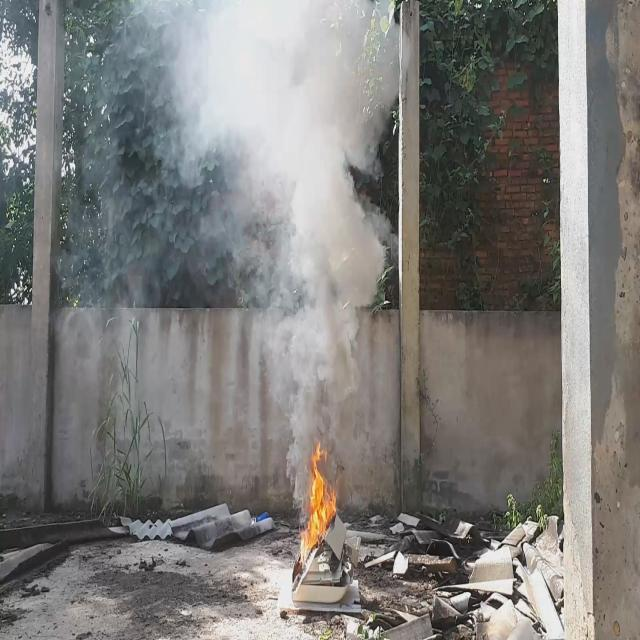Fire: (300, 440, 340, 567)
Smoke: (120, 0, 406, 523)
